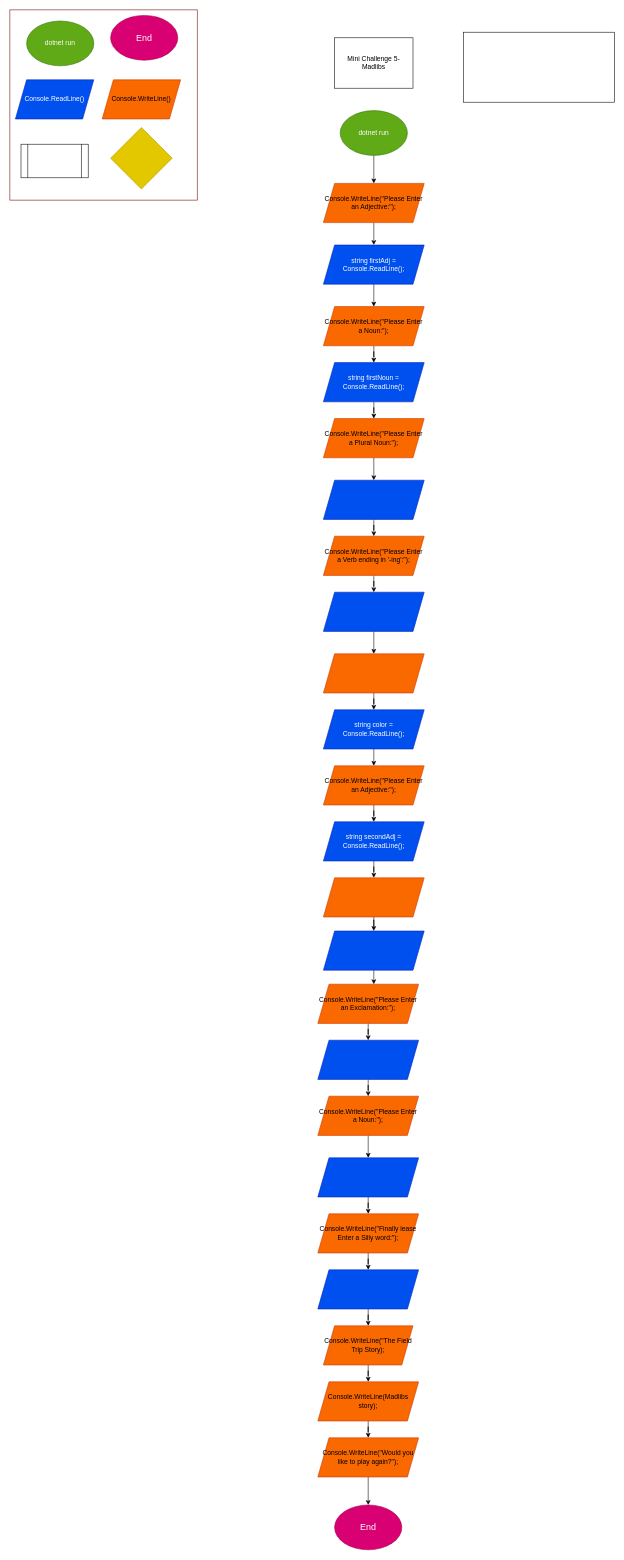
The diagram is 624 pixels wide and 1560 high, and some of its shapes have lost their labels. Each missing label, with the centre of its shape:
Console.WriteLine("Please Enter a Color:");: (x=373, y=673)
Console.WriteLine("Please Enter a Number:");: (x=373, y=897)
Create a madlib generator in console with 10 inputs to tell a story: (x=539, y=67)
Decision: (x=141, y=158)
Process: (x=54, y=161)
string exclamation = Console.ReadLine();: (x=368, y=1059)
string number = Console.ReadLine();: (x=373, y=950)
string pluralNoun = Console.ReadLine();: (x=373, y=499)
string secondNoun = Console.ReadLine();: (x=368, y=1177)
string sillyWord= Console.ReadLine();: (x=368, y=1289)
string verb = Console.ReadLine();: (x=373, y=611)
